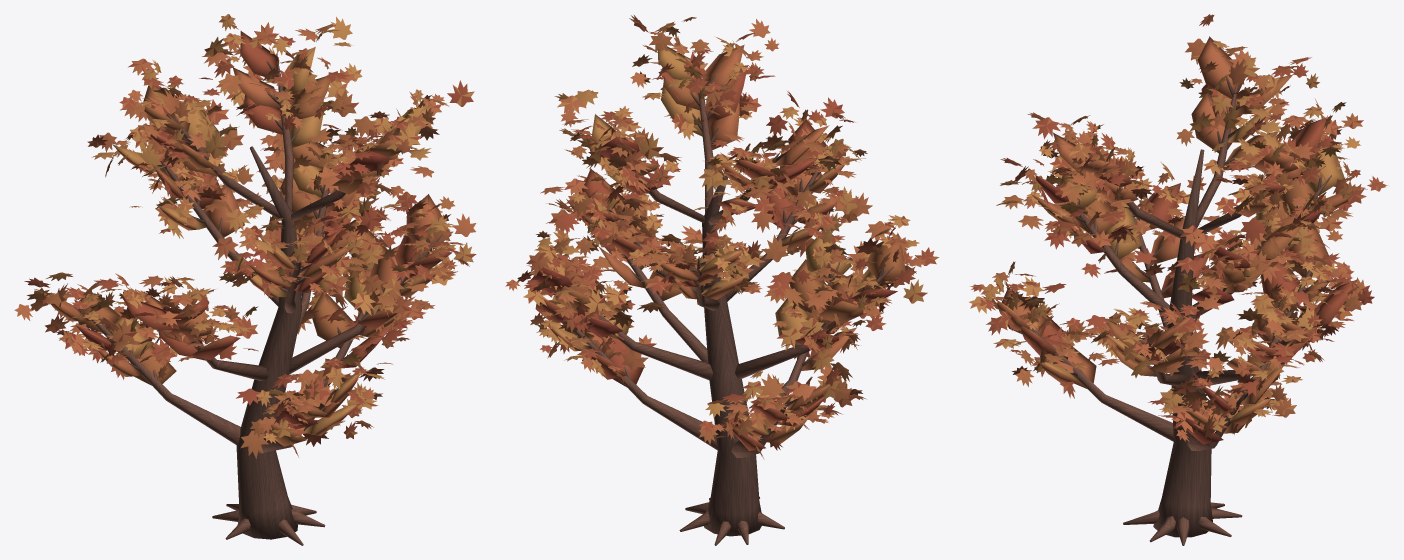
The model's file is maple.glb.
3 renders of one model, left to right at view 1: azimuth 30°, elevation 25°; view 2: azimuth 150°, elevation 25°; view 3: azimuth 270°, elevation 25°, orthographic.
Visible parts, largest first — view 1: Palmatifid maple and mottled red-orange crown, Flared maple trunk, exposed roots and fine palmate branches; view 2: Palmatifid maple and mottled red-orange crown, Flared maple trunk, exposed roots and fine palmate branches; view 3: Palmatifid maple and mottled red-orange crown, Flared maple trunk, exposed roots and fine palmate branches.
Part boxes in pixels (bbox=[...]): Palmatifid maple and mottled red-orange crown: bbox=[14, 14, 476, 458]; Flared maple trunk, exposed roots and fine palmate branches: bbox=[38, 31, 445, 545]; Palmatifid maple and mottled red-orange crown: bbox=[505, 15, 939, 459]; Flared maple trunk, exposed roots and fine palmate branches: bbox=[543, 44, 898, 545]; Palmatifid maple and mottled red-orange crown: bbox=[969, 14, 1387, 444]; Flared maple trunk, exposed roots and fine palmate branches: bbox=[997, 36, 1357, 545].
Size of the model in its own units: 6.63 by 7.43 by 6.28.
2 materials, 1 textured.
